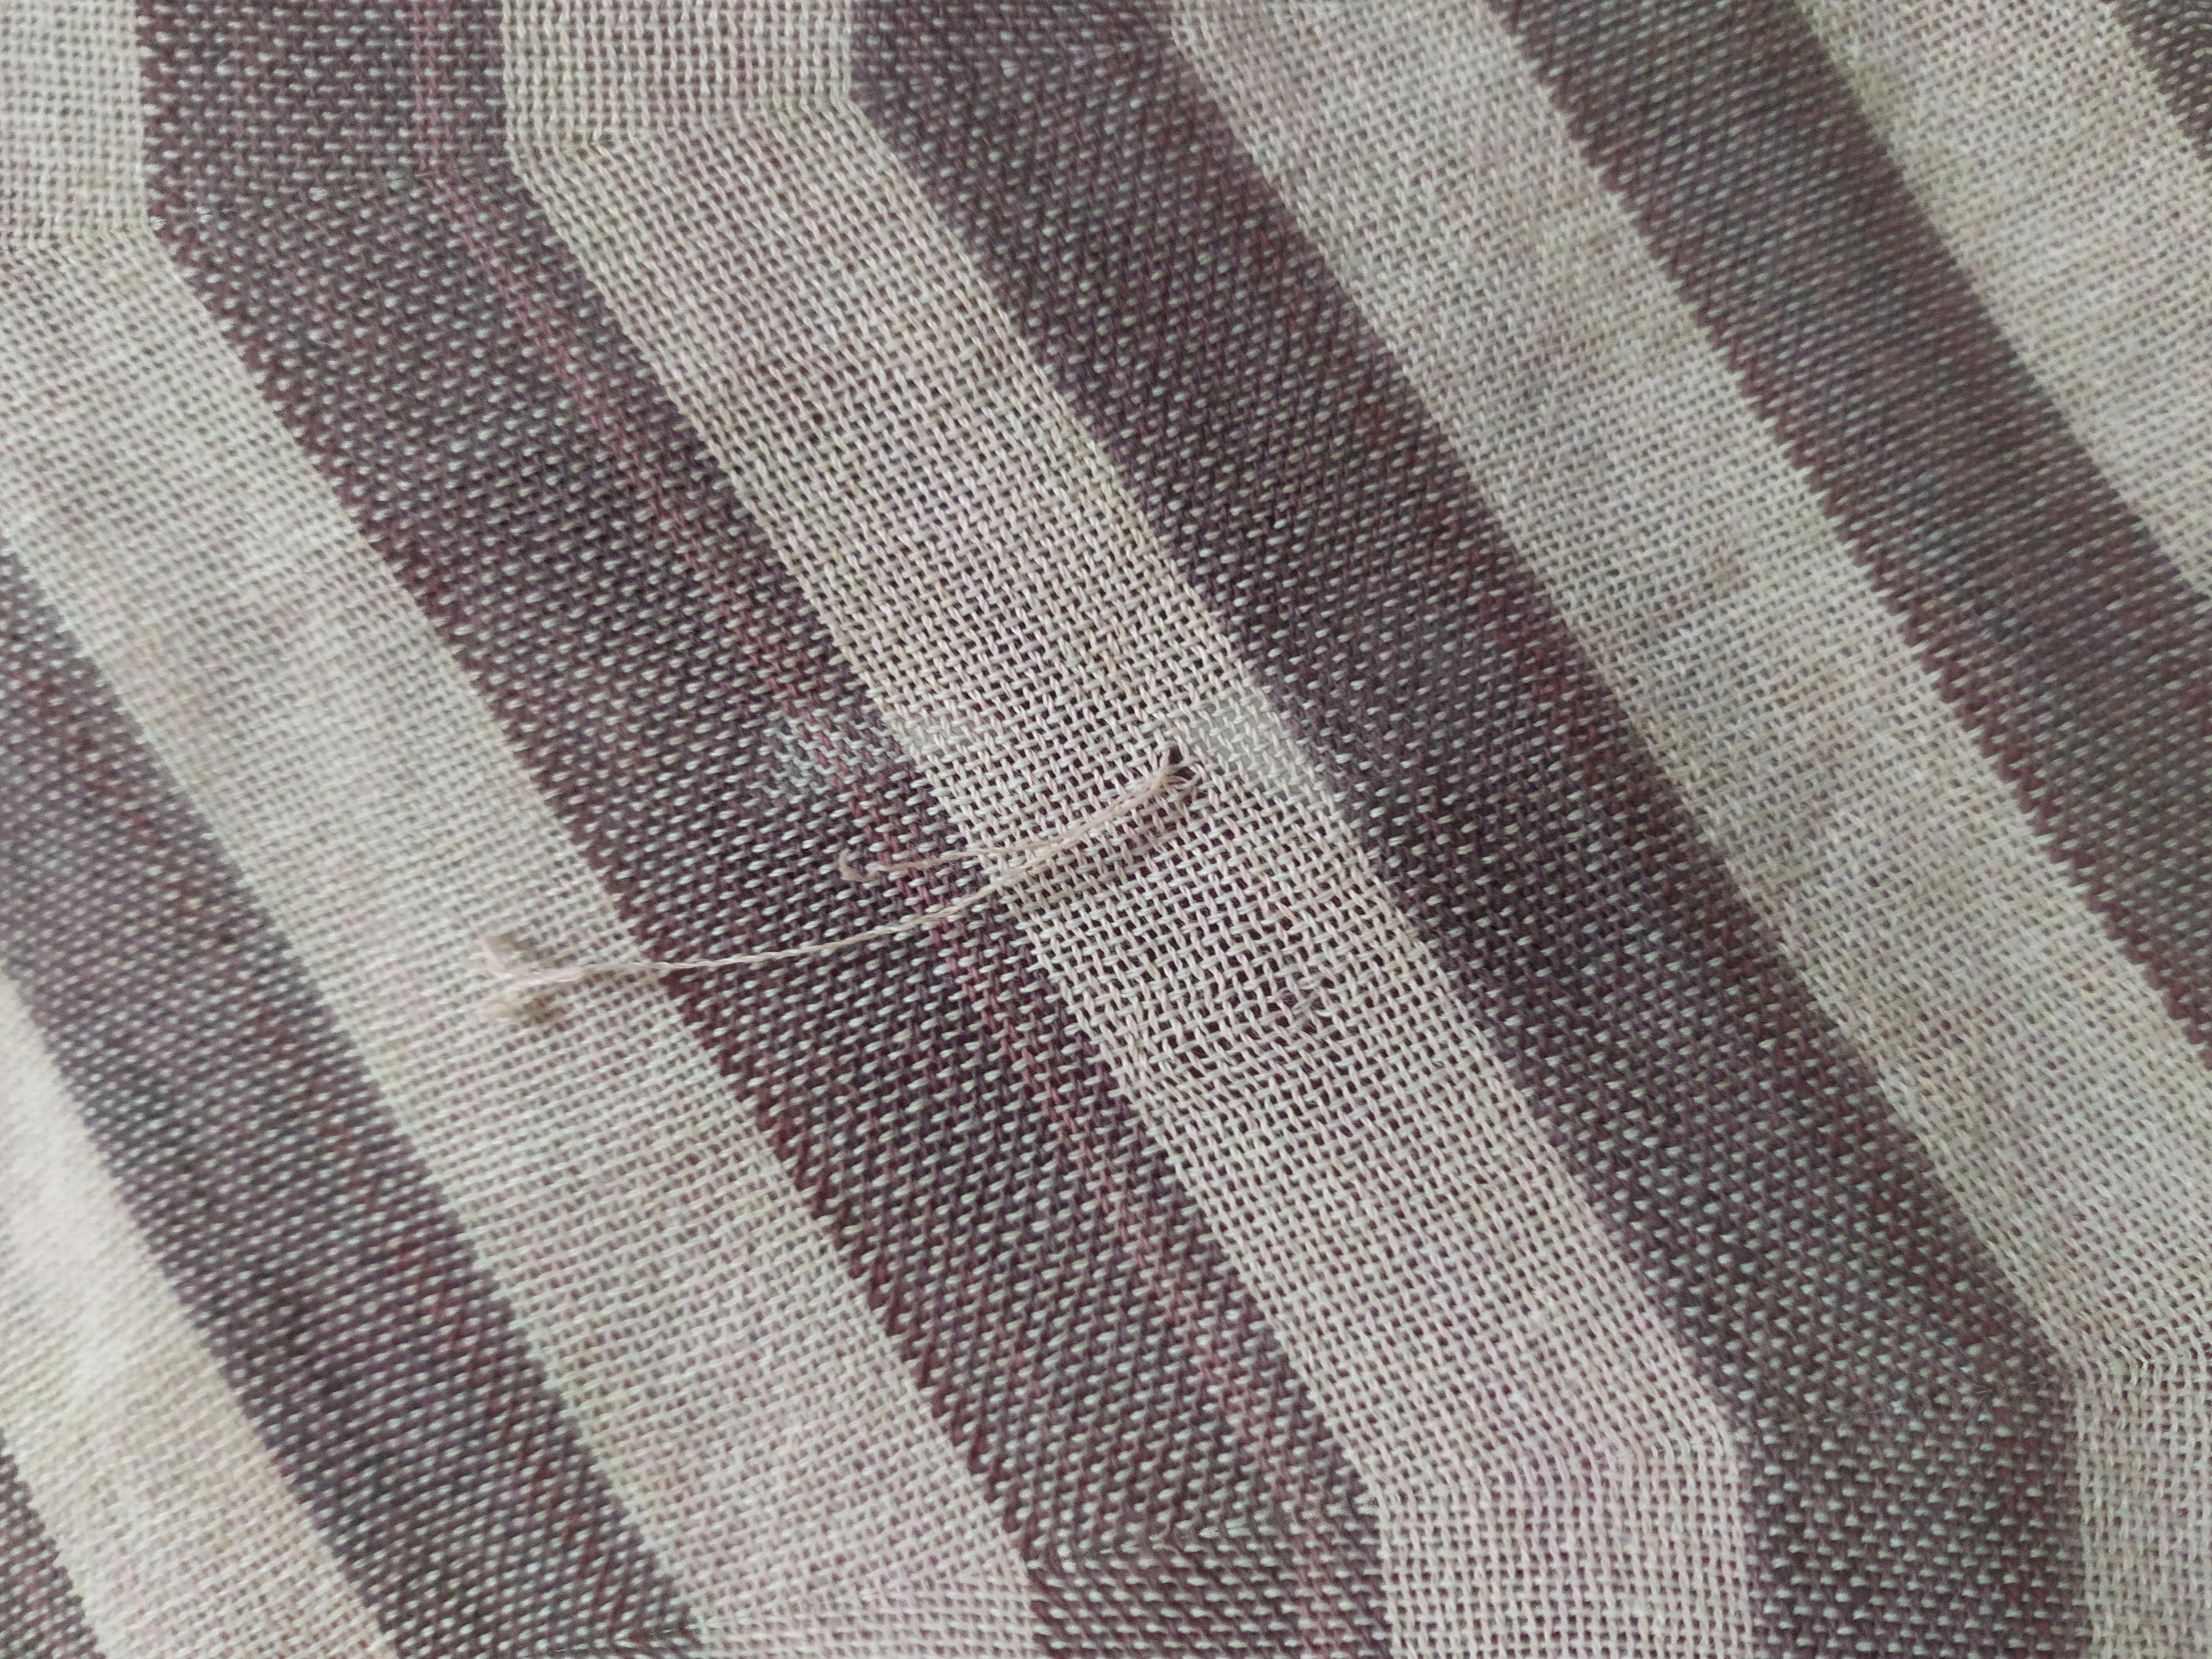snag: (444, 714, 1273, 1068)
